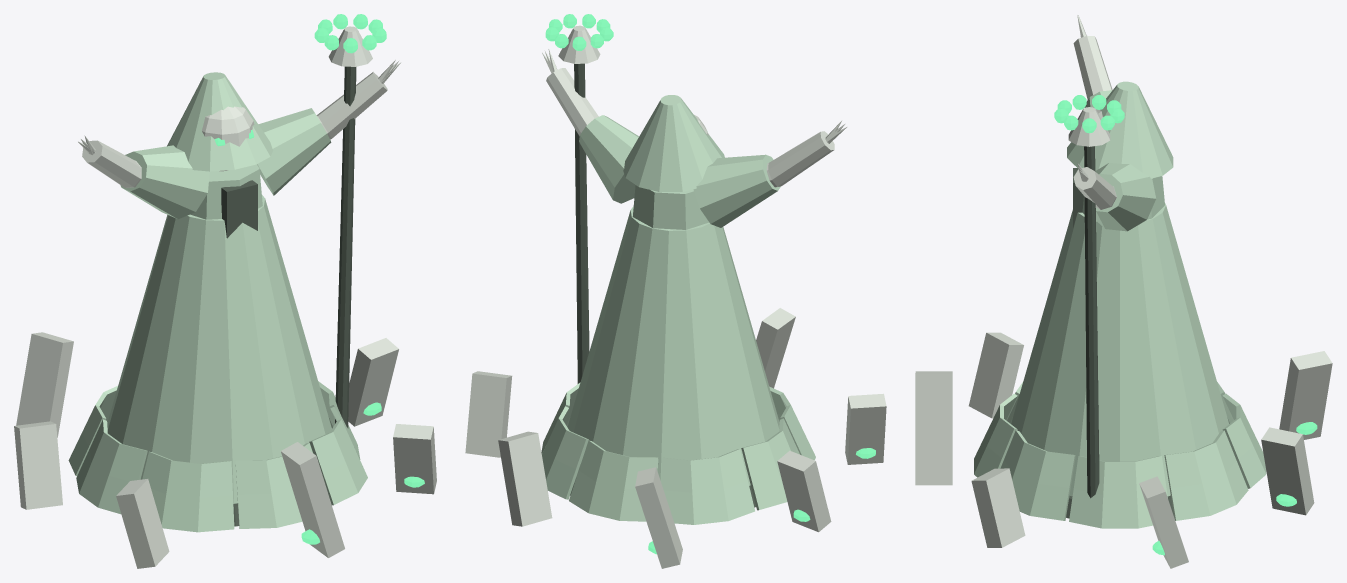
The model's file is gravecaller.glb.
3 renders of one model, left to right at view 1: azimuth 30°, elevation 25°; view 2: azimuth 150°, elevation 25°; view 3: azimuth 270°, elevation 25°, orthographic. The views are drawn at different scales.
Parts seen in each view (by area): view 1: gravecaller_body, gravecaller_bone, gravecaller_dark, gravecaller_glow; view 2: gravecaller_body, gravecaller_bone, gravecaller_dark, gravecaller_glow; view 3: gravecaller_body, gravecaller_bone, gravecaller_dark, gravecaller_glow.
Part boxes in pixels (<box>): gravecaller_body: <box>68,72,367,532</box>; gravecaller_bone: <box>14,26,436,568</box>; gravecaller_dark: <box>221,66,356,526</box>; gravecaller_glow: <box>214,14,424,544</box>; gravecaller_body: <box>541,95,815,524</box>; gravecaller_bone: <box>465,25,886,568</box>; gravecaller_dark: <box>570,63,755,507</box>; gravecaller_glow: <box>545,14,875,554</box>; gravecaller_body: <box>974,81,1266,528</box>; gravecaller_bone: <box>915,15,1332,568</box>; gravecaller_dark: <box>1066,146,1173,518</box>; gravecaller_glow: <box>1054,95,1317,555</box>.
Bounding box in the file's own units: 1.65 × 1.85 × 1.63.
